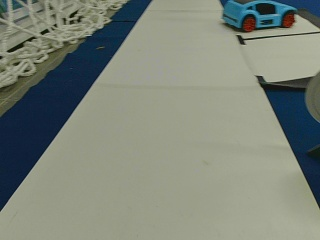car: (222, 1, 297, 31)
